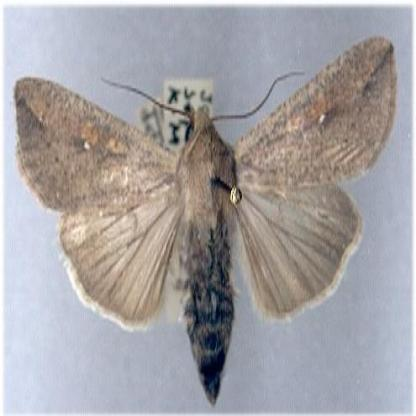armyworm: (11, 37, 396, 402)
